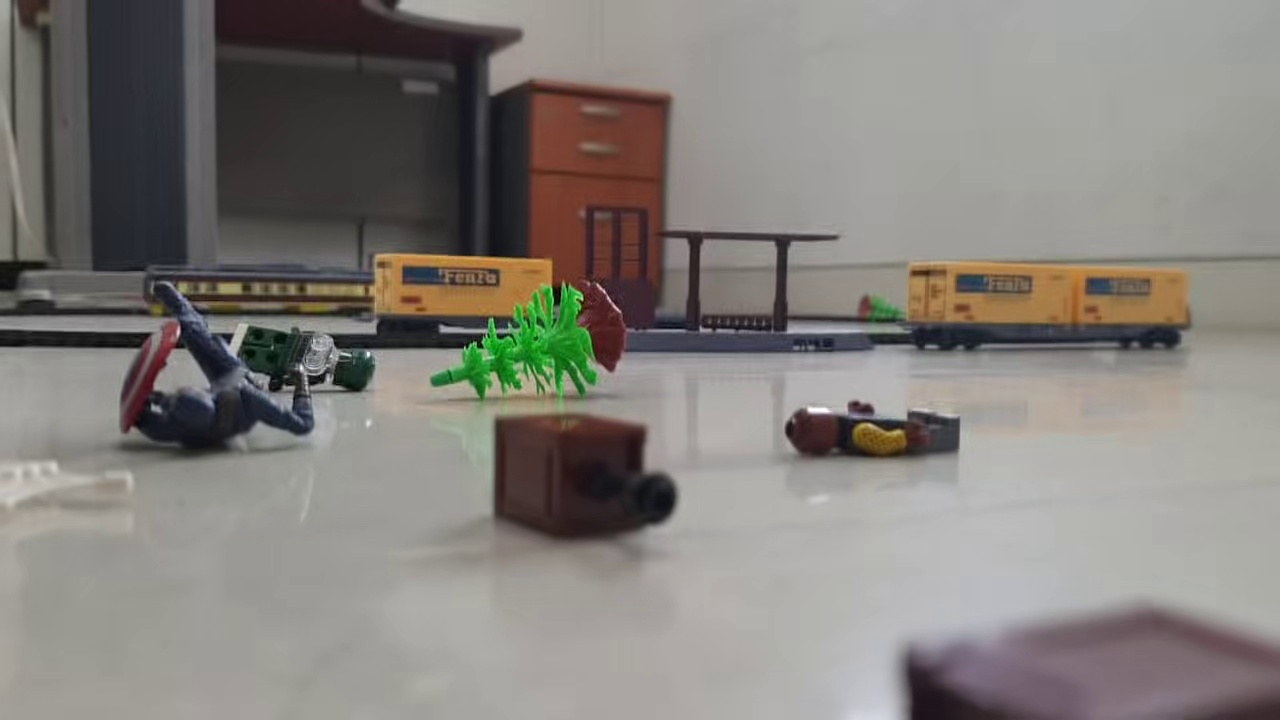box: (900, 587, 1275, 720), (489, 407, 681, 547)
people: (118, 276, 319, 455), (218, 318, 380, 398), (782, 402, 965, 466)
tree: (431, 275, 631, 406), (855, 293, 912, 329)
web: (1, 455, 136, 520)
